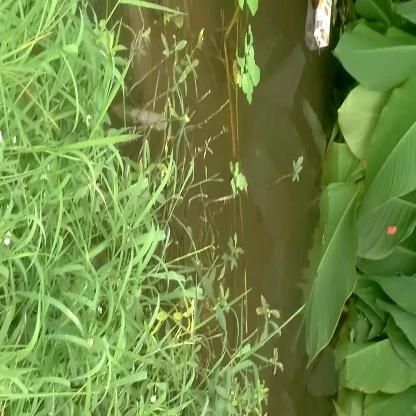milk-box: (300, 5, 340, 55)
